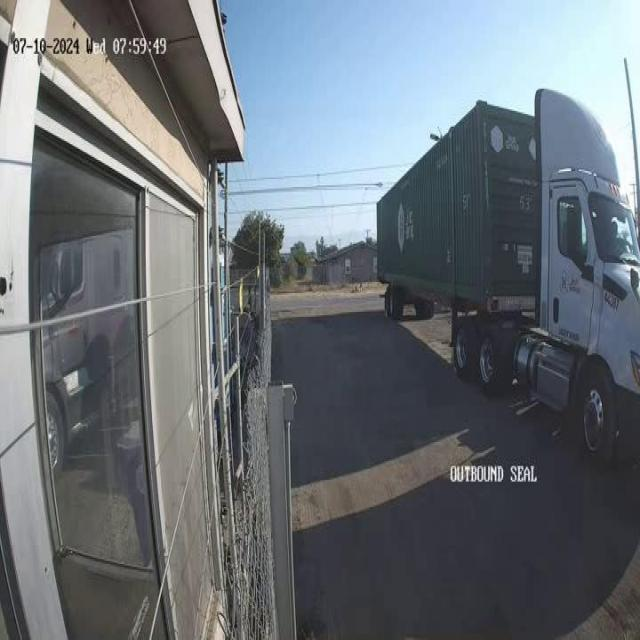TRUCK_IN: (375, 86, 639, 466)
